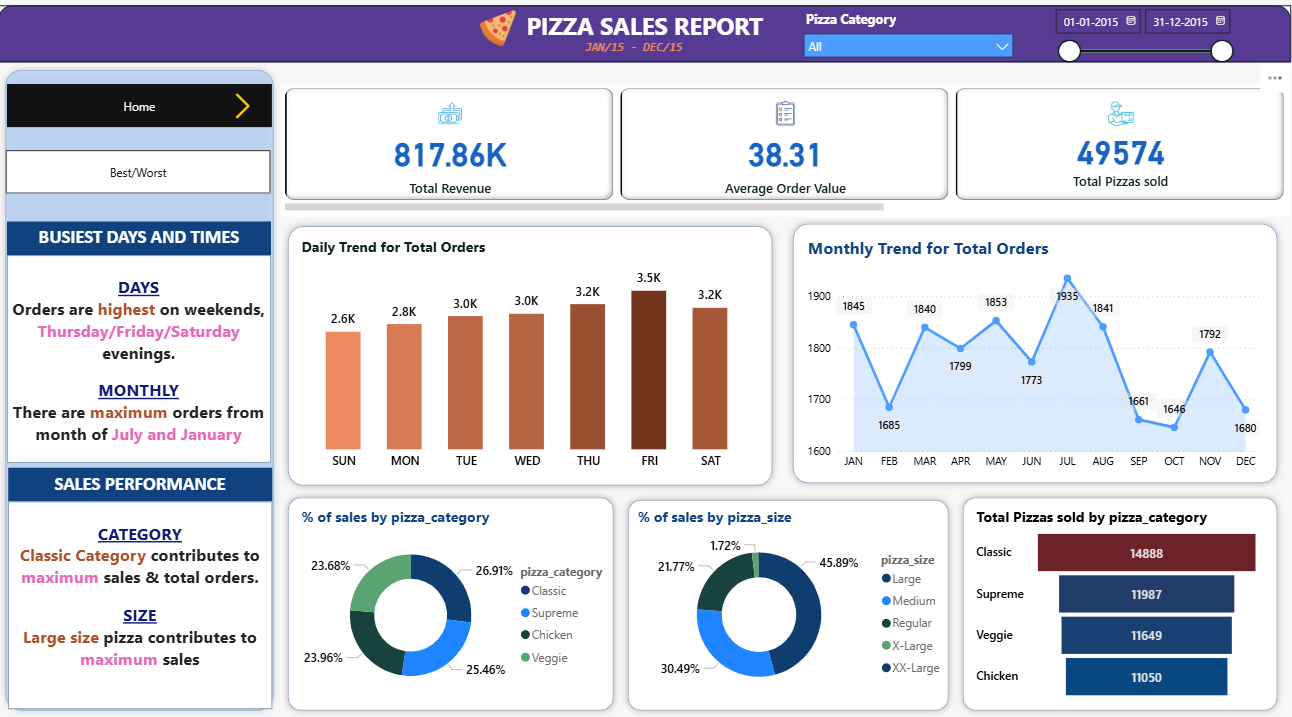

What the dashboard file says about the page in this screenshot:
{"tool":"powerbi","page":{"name":"Home","canvas":[1500,820],"ordinal":0},"visuals":[{"type":"cardVisual","fields":{"Data":["pizza_sales.Total Revenue","pizza_sales.Average Order Value","pizza_sales.Total Pizzas sold","pizza_sales.Total Orders","pizza_sales.Average Pizzas per order"]},"box":[338.6,102,1144.7,150.2],"z":0},{"type":"shape","box":[18.4,12.8,1464.9,65.2],"z":1000},{"type":"textbox","box":[612,12.8,279.1,49.6],"z":2000},{"type":"textbox","box":[678.6,45.3,148.8,32.6],"z":3000},{"type":"image","box":[541.2,12.8,87.8,52.4],"z":4000},{"type":"shape","box":[338.6,255,565.3,310.3],"z":5000},{"type":"columnChart","title":"Daily Trend for Total Orders","fields":{"Category":["pizza_sales.Order Day"],"Y":["pizza_sales.Total Orders"]},"box":[357,274.8,522.8,273.4],"z":6000},{"type":"shape","box":[911,252.2,565.3,310.3],"z":7000},{"type":"areaChart","title":"Monthly Trend for Total Orders","fields":{"Category":["pizza_sales.Order Month"],"Y":["pizza_sales.Total Orders"]},"box":[930.8,274.8,522.8,273.4],"z":8000},{"type":"shape","box":[338.6,562.4,385.4,257.8],"z":9000},{"type":"shape","box":[724,565.3,379.7,255],"z":10000},{"type":"shape","box":[1103.6,562.4,372.6,257.8],"z":11000},{"type":"donutChart","title":"% of sales by pizza_category","fields":{"Category":["pizza_sales.pizza_category"],"Y":["pizza_sales.Total Revenue"]},"box":[357,580.9,366.9,225.3],"z":12000},{"type":"donutChart","title":"% of sales by pizza_size","fields":{"Y":["pizza_sales.Total Revenue"],"Category":["pizza_sales.pizza_size"]},"box":[738.1,580.9,365.5,223.8],"z":13000},{"type":"funnel","fields":{"Category":["pizza_sales.pizza_category"],"Y":["pizza_sales.Total Pizzas sold"]},"box":[1122.1,580.9,331.5,223.8],"z":14000},{"type":"shape","box":[18.4,77.9,320.2,742.4],"z":15000},{"type":"textbox","box":[28.3,257.8,298.9,38.3],"z":16000},{"type":"textbox","box":[28.3,296.1,298.9,235.2],"z":17000},{"type":"textbox","box":[30.4,536.4,298.9,38.3],"z":18000},{"type":"textbox","box":[30.4,574.7,298.9,235.2],"z":19000},{"type":"slicer","fields":{"Values":["pizza_sales.pizza_category"]},"box":[920.9,12.8,257.8,65.2],"z":20000},{"type":"slicer","fields":{"Values":["pizza_sales.order_date"]},"box":[1204.2,7.1,222.4,77.9],"z":21000},{"type":"pageNavigator","box":[28.3,102,300.3,49.6],"z":22000},{"type":"pageNavigator","box":[26.9,177.1,300.3,49.6],"z":23000},{"type":"image","box":[276.3,107.7,38.3,38.3],"z":24000}]}

Visuals, with their boxes in screenshot pixels (x1, y1, x2, y2), scaled from the page's 1500x820 canvas onto the 1292x717 screenshot:
cardVisual - pizza_sales.Total Revenue x pizza_sales.Average Order Value: (x1=292, y1=89, x2=1278, y2=221)
shape: (x1=16, y1=11, x2=1278, y2=68)
textbox: (x1=527, y1=11, x2=768, y2=55)
textbox: (x1=585, y1=40, x2=713, y2=68)
image: (x1=466, y1=11, x2=542, y2=57)
shape: (x1=292, y1=223, x2=779, y2=494)
"Daily Trend for Total Orders" columnChart: (x1=307, y1=240, x2=758, y2=479)
shape: (x1=785, y1=221, x2=1272, y2=492)
"Monthly Trend for Total Orders" areaChart: (x1=802, y1=240, x2=1252, y2=479)
shape: (x1=292, y1=492, x2=624, y2=716)
shape: (x1=624, y1=494, x2=951, y2=716)
shape: (x1=951, y1=492, x2=1272, y2=716)
"% of sales by pizza_category" donutChart: (x1=307, y1=508, x2=624, y2=705)
"% of sales by pizza_size" donutChart: (x1=636, y1=508, x2=951, y2=704)
funnel - pizza_sales.pizza_category x pizza_sales.Total Pizzas sold: (x1=967, y1=508, x2=1252, y2=704)
shape: (x1=16, y1=68, x2=292, y2=716)
textbox: (x1=24, y1=225, x2=282, y2=259)
textbox: (x1=24, y1=259, x2=282, y2=465)
textbox: (x1=26, y1=469, x2=284, y2=503)
textbox: (x1=26, y1=503, x2=284, y2=708)
slicer - pizza_sales.pizza_category: (x1=793, y1=11, x2=1015, y2=68)
slicer - pizza_sales.order_date: (x1=1037, y1=6, x2=1229, y2=74)
pageNavigator: (x1=24, y1=89, x2=283, y2=133)
pageNavigator: (x1=23, y1=155, x2=282, y2=198)
image: (x1=238, y1=94, x2=271, y2=128)
